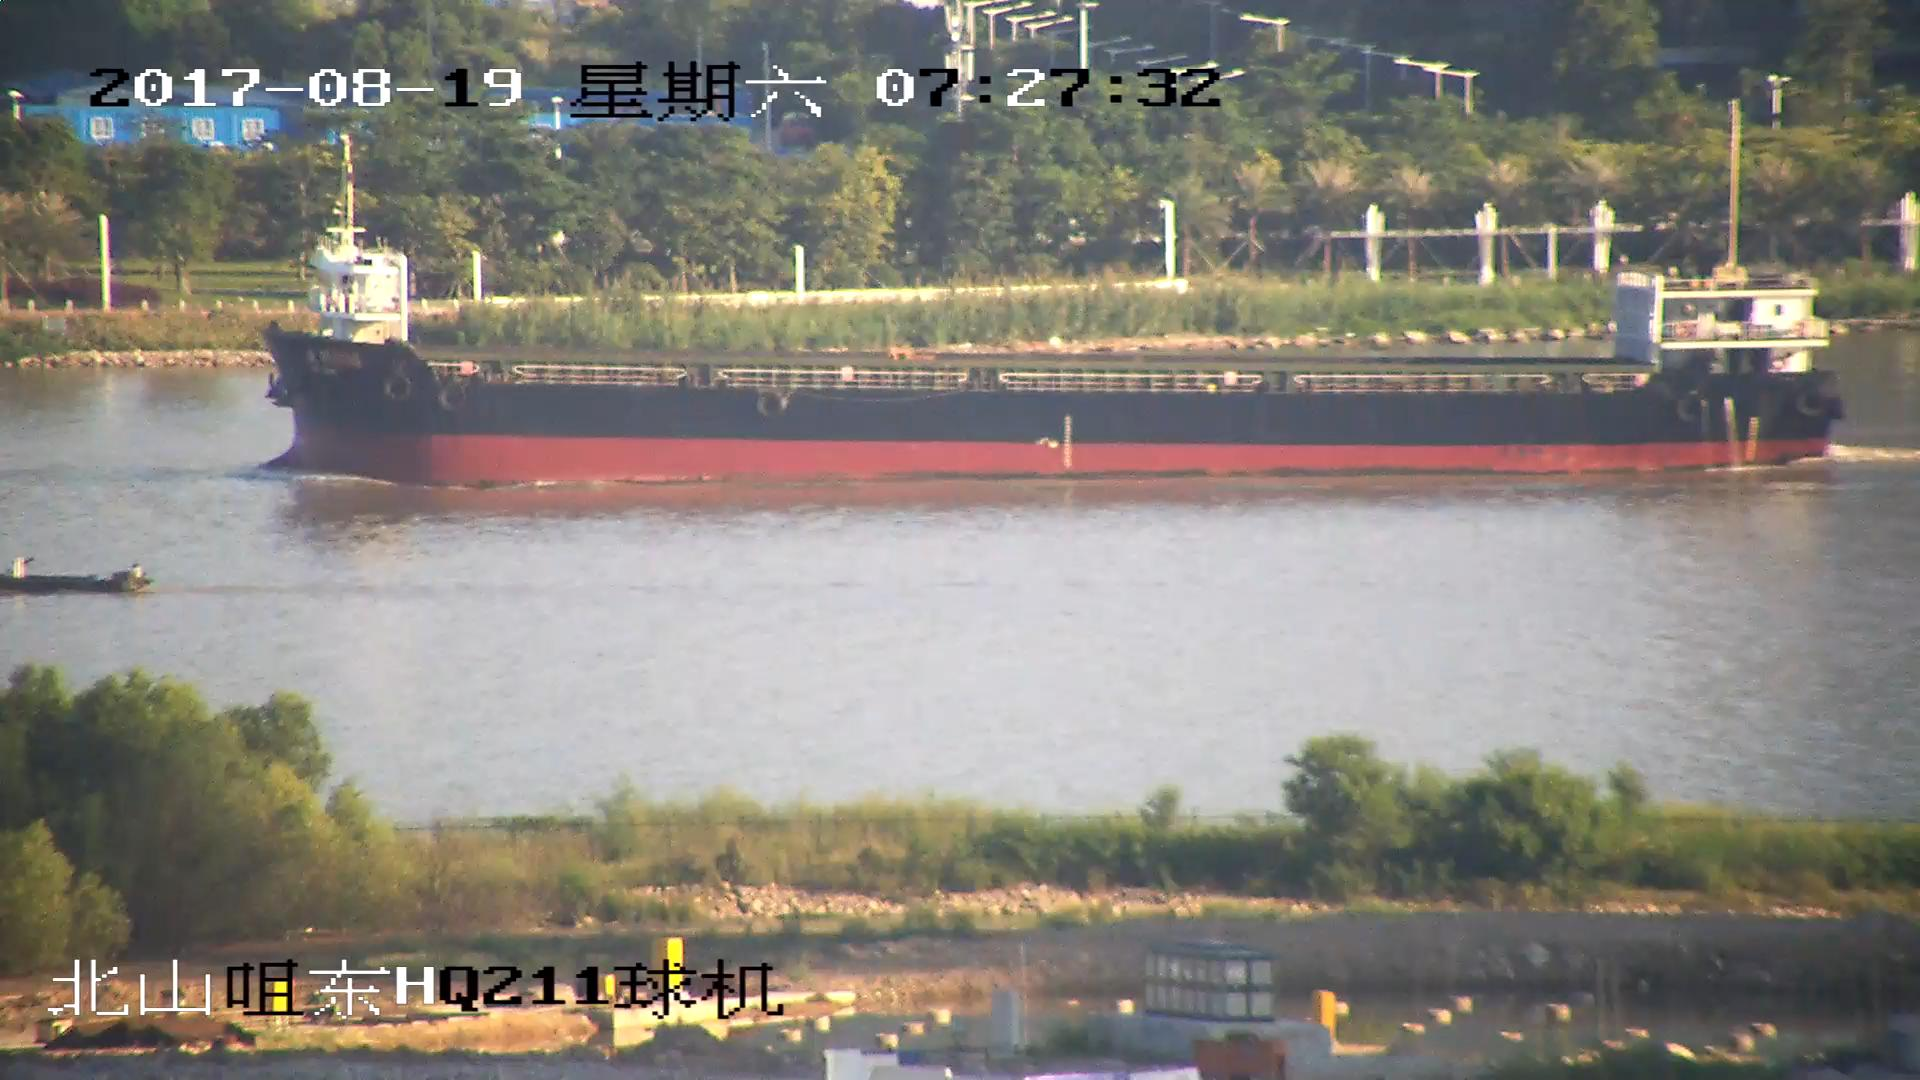fishing boat: (1, 551, 149, 598)
general cargo ship: (273, 218, 1851, 480)
